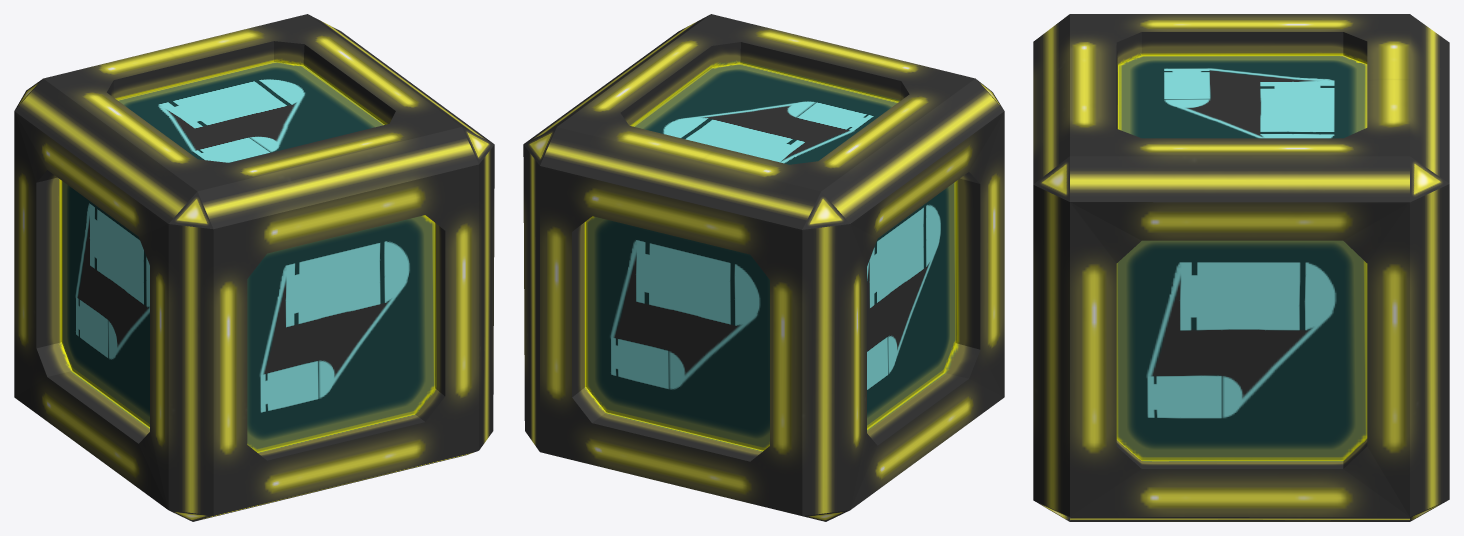
File: ItemBOX.fbx
The picture shows the model from 3 angles, left to right: view 1: azimuth 30°, elevation 25°; view 2: azimuth 150°, elevation 25°; view 3: azimuth 270°, elevation 25°; orthographic projection. The views are drawn at different scales.
Parts seen in each view (by area): view 1: Item_Box1; view 2: Item_Box1; view 3: Item_Box1.
Part boxes in pixels (x1=…): Item_Box1: x1=14, y1=14, x2=494, y2=521; Item_Box1: x1=523, y1=14, x2=1004, y2=521; Item_Box1: x1=1033, y1=14, x2=1449, y2=521.
Size of the model in its own units: 94.2 by 90.72 by 94.28.
